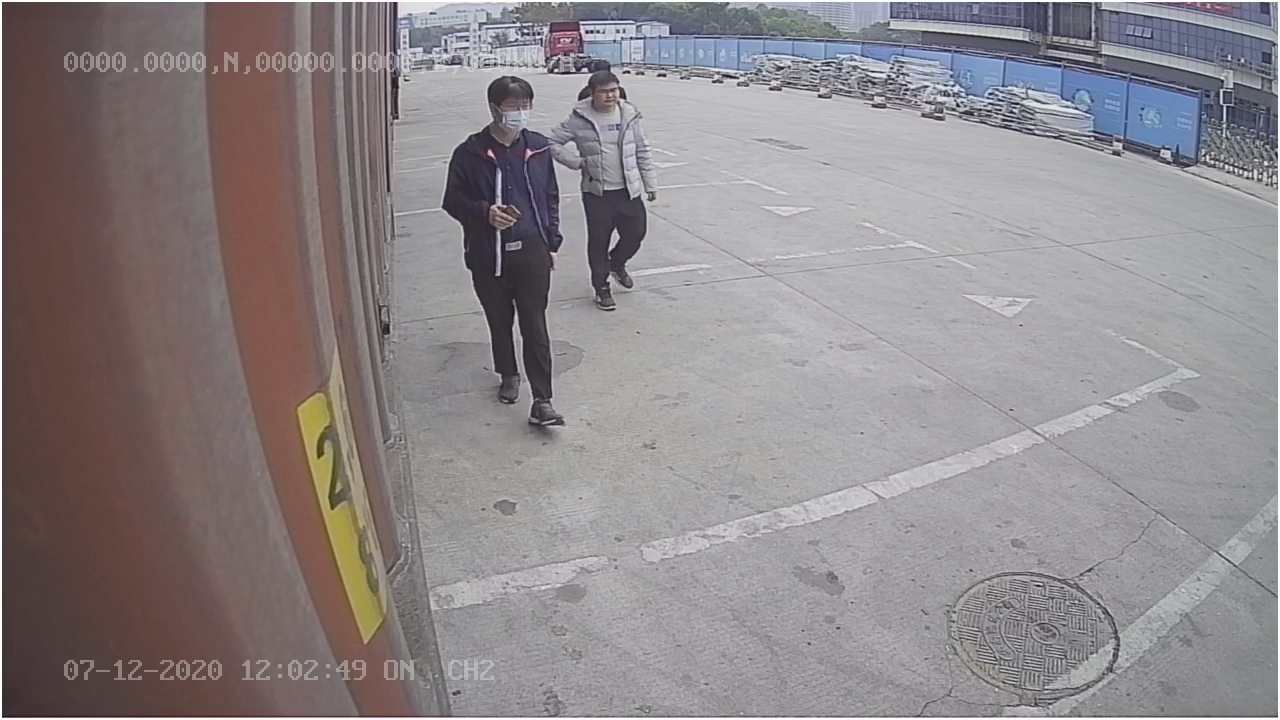person: (441, 73, 563, 427)
